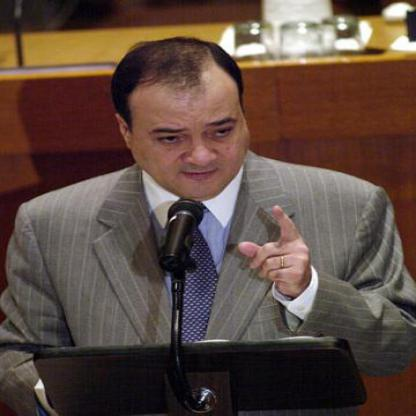face: (128, 53, 250, 203)
